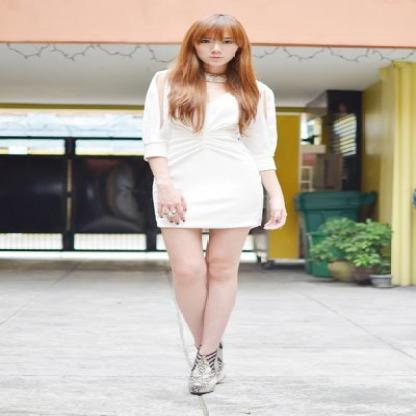dress: (138, 70, 298, 228)
shoe: (186, 358, 224, 394)
